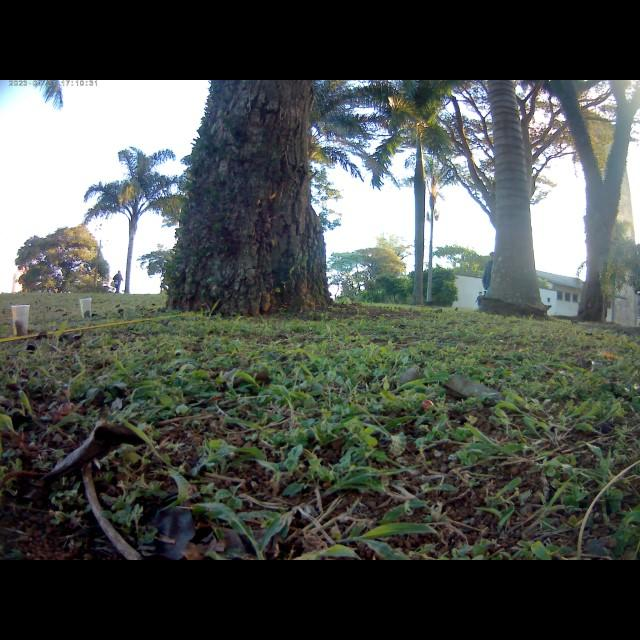arvore: (165, 80, 338, 314)
